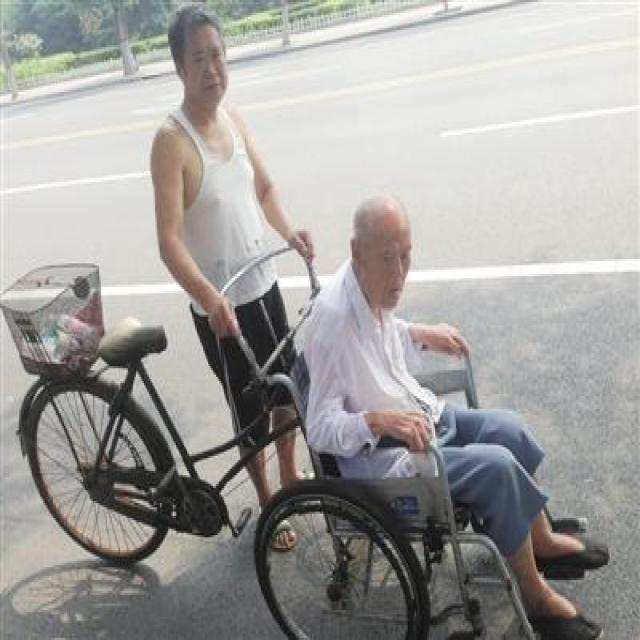wheelchairs: (252, 284, 600, 640)
